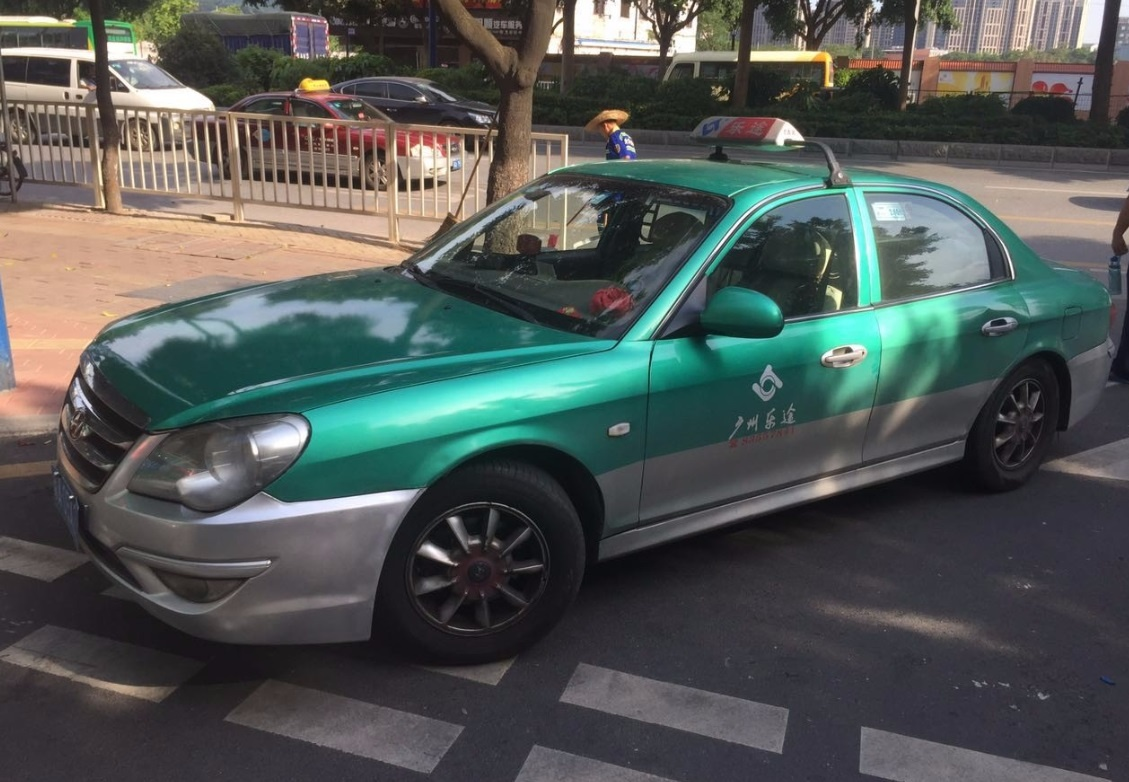taxi: (53, 136, 1106, 635)
